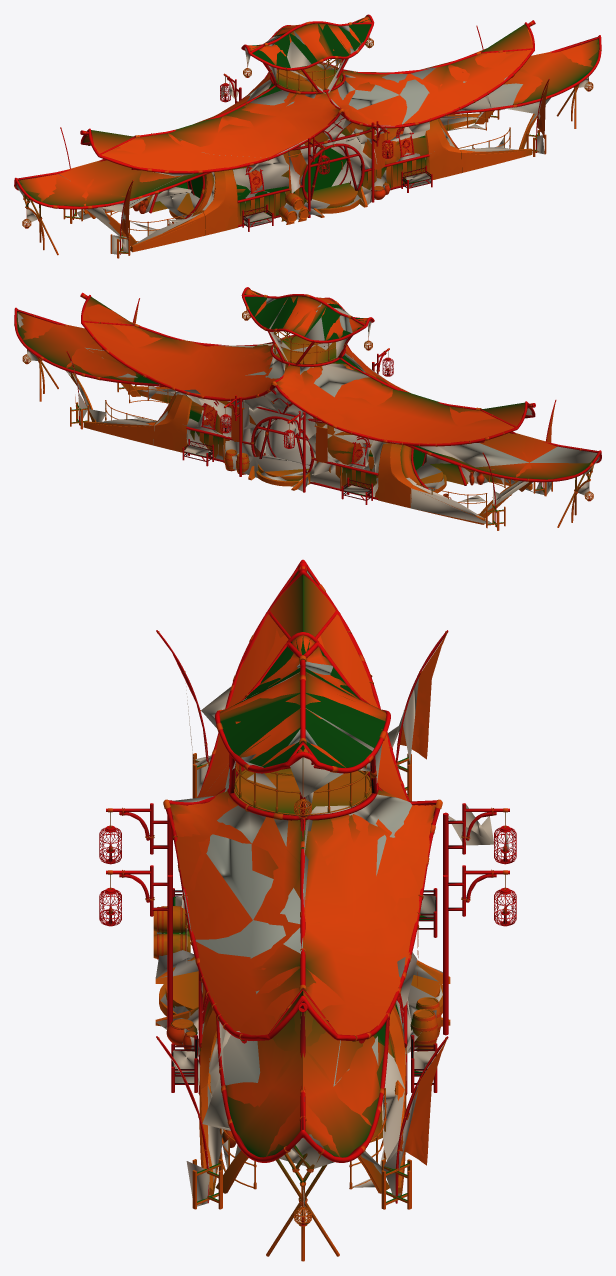
The model's file is KB3D_GAE_BldgMD_J.glb.
3 renders of one model, top to bottom at view 1: azimuth 30°, elevation 25°; view 2: azimuth 150°, elevation 25°; view 3: azimuth 270°, elevation 25°, orthographic. The views are drawn at different scales.
Parts seen in each view (by area): view 1: L1, L0, L2; view 2: L0, L1, L2; view 3: L1, L0, L2.
Boxes of the visible parts, x1,y1,x2,y2 form: L1: [17, 16, 601, 257]; L0: [14, 14, 601, 258]; L2: [16, 25, 588, 254]; L0: [14, 287, 601, 530]; L1: [14, 290, 599, 530]; L2: [17, 298, 599, 523]; L1: [99, 563, 516, 1259]; L0: [99, 559, 516, 1261]; L2: [155, 571, 509, 1215].
Bounding box in the file's own units: 36.84 × 9.87 × 11.36.
